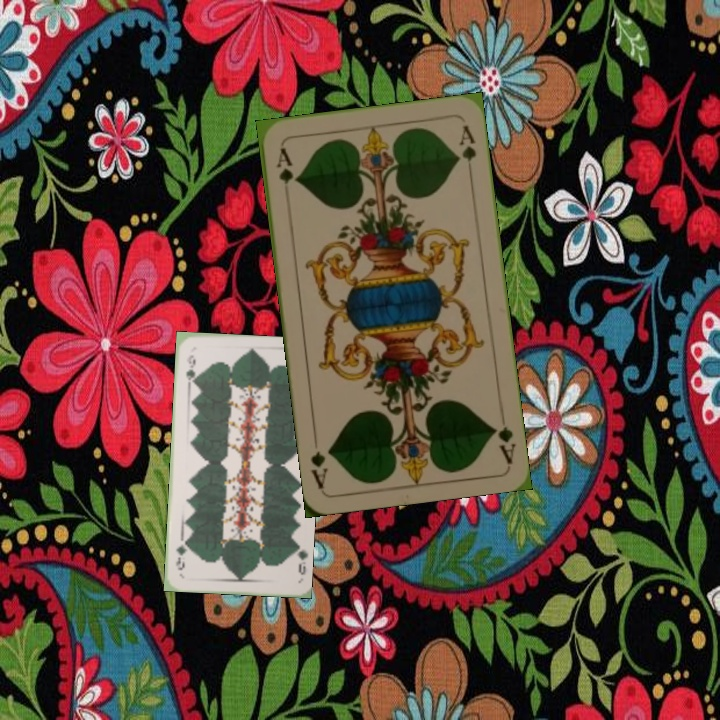G9: (289, 541, 309, 577), (182, 351, 198, 387)
GA: (272, 143, 296, 201), (488, 422, 518, 466)
